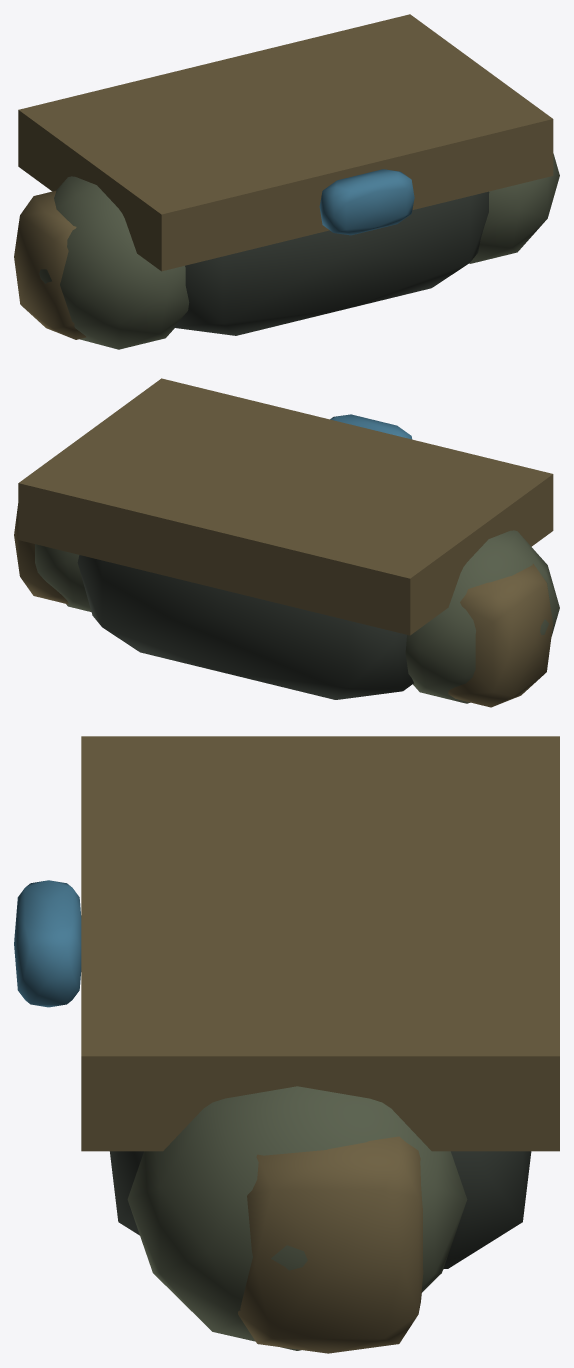
Rendered from Bastion_Gunner_Pelvis.obj.
3 views of the same model, one above another, from view 1: azimuth 30°, elevation 25°; view 2: azimuth 150°, elevation 25°; view 3: azimuth 270°, elevation 25° (orthographic). The views are drawn at different scales.
Visible parts, largest first — view 1: Belt, PelvisCore, LeftHipGuard, LeftPouch, Buckle, RightHipGuard; view 2: Belt, PelvisCore, LeftPouch, LeftHipGuard, RightHipGuard, RightPouch, Buckle; view 3: Belt, RightHipGuard, RightPouch, PelvisCore, Buckle.
Boxes of the visible parts, <box> form: Belt: <box>18,14,553,271</box>; PelvisCore: <box>174,191,489,335</box>; LeftHipGuard: <box>39,176,189,349</box>; LeftPouch: <box>14,190,86,339</box>; Buckle: <box>319,169,414,235</box>; RightHipGuard: <box>469,153,559,263</box>; Belt: <box>18,378,553,635</box>; PelvisCore: <box>77,555,413,699</box>; LeftPouch: <box>448,563,552,707</box>; LeftHipGuard: <box>405,530,559,703</box>; RightHipGuard: <box>35,544,91,611</box>; RightPouch: <box>14,503,68,604</box>; Buckle: <box>330,414,412,439</box>; Belt: <box>81,736,559,1151</box>; RightHipGuard: <box>127,1086,467,1350</box>; RightPouch: <box>238,1136,423,1353</box>; PelvisCore: <box>110,1151,531,1269</box>; Buckle: <box>14,880,81,1007</box>.
Size of the model in its own units: 0.63 by 0.214 by 0.3535.
1 material, 1 textured.
